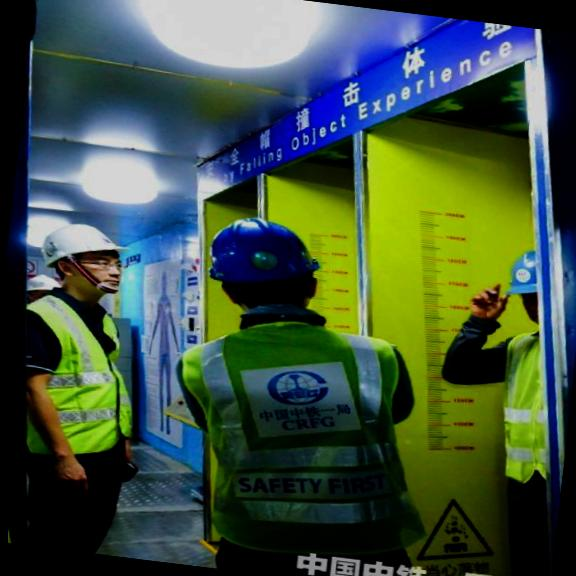safety_vest: (171, 307, 443, 576), (8, 291, 151, 469)
